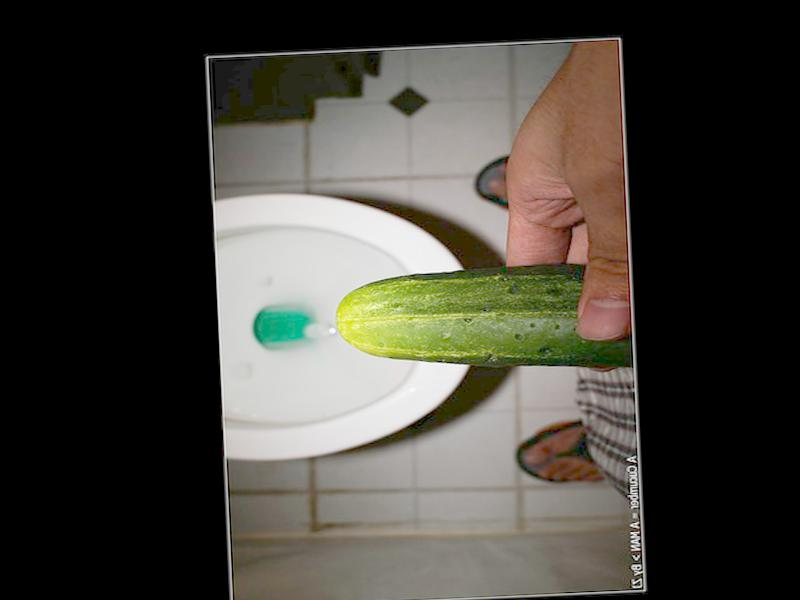Cucumber: (334, 262, 638, 379)
